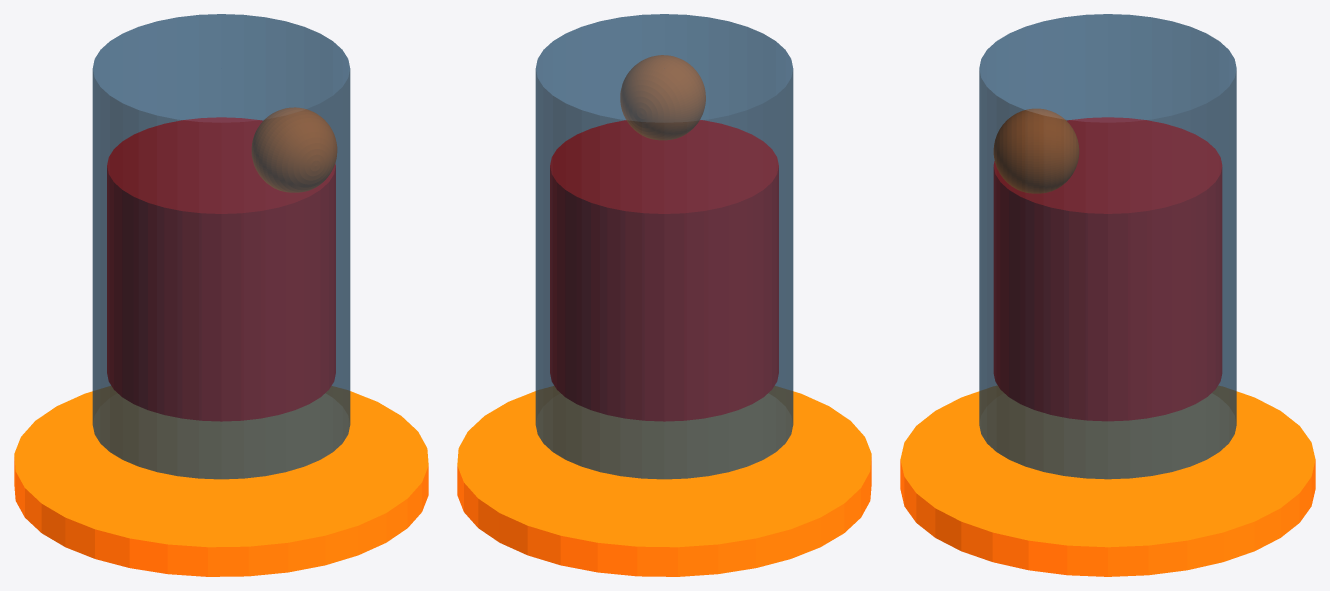
The model's file is spanish_sangria.dae.
3 views of the same model, side by side, from view 1: azimuth 30°, elevation 25°; view 2: azimuth 150°, elevation 25°; view 3: azimuth 270°, elevation 25° (orthographic).
Visible parts, largest first — view 1: 11_08_Popular_Spanish_Sangria_part_01, 11_08_Popular_Spanish_Sangria_ROOT_base, 11_08_Popular_Spanish_Sangria_part_02, 11_08_Popular_Spanish_Sangria_part_03; view 2: 11_08_Popular_Spanish_Sangria_part_01, 11_08_Popular_Spanish_Sangria_part_02, 11_08_Popular_Spanish_Sangria_ROOT_base, 11_08_Popular_Spanish_Sangria_part_03; view 3: 11_08_Popular_Spanish_Sangria_part_01, 11_08_Popular_Spanish_Sangria_ROOT_base, 11_08_Popular_Spanish_Sangria_part_02, 11_08_Popular_Spanish_Sangria_part_03.
Part boxes in pixels (bbox=[...]): 11_08_Popular_Spanish_Sangria_part_01: bbox=[92, 14, 350, 479]; 11_08_Popular_Spanish_Sangria_ROOT_base: bbox=[14, 386, 428, 576]; 11_08_Popular_Spanish_Sangria_part_02: bbox=[107, 117, 335, 421]; 11_08_Popular_Spanish_Sangria_part_03: bbox=[251, 107, 337, 192]; 11_08_Popular_Spanish_Sangria_part_01: bbox=[535, 14, 793, 479]; 11_08_Popular_Spanish_Sangria_part_02: bbox=[550, 120, 778, 421]; 11_08_Popular_Spanish_Sangria_ROOT_base: bbox=[457, 386, 871, 576]; 11_08_Popular_Spanish_Sangria_part_03: bbox=[620, 55, 705, 140]; 11_08_Popular_Spanish_Sangria_part_01: bbox=[979, 14, 1236, 479]; 11_08_Popular_Spanish_Sangria_ROOT_base: bbox=[900, 386, 1315, 576]; 11_08_Popular_Spanish_Sangria_part_02: bbox=[993, 117, 1222, 421]; 11_08_Popular_Spanish_Sangria_part_03: bbox=[993, 108, 1079, 193].
Bounding box in the file's own units: 0.76 × 0.85 × 0.76.
